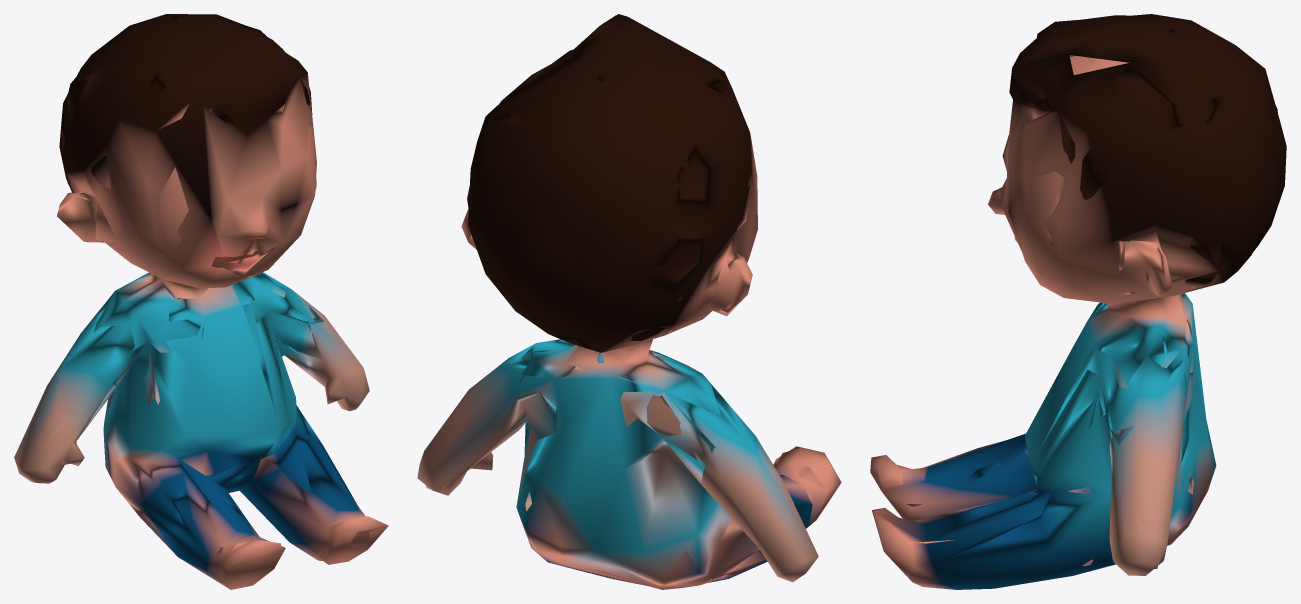
File: gen3d-baby-lod1.glb
3 views of the same model, side by side, from view 1: azimuth 30°, elevation 25°; view 2: azimuth 150°, elevation 25°; view 3: azimuth 270°, elevation 25° (orthographic). The views are drawn at different scales.
Parts seen in each view (by area): view 1: part_0; view 2: part_0; view 3: part_0.
Part boxes in pixels (x1,y1,x2,y2): part_0: [14, 14, 388, 589]; part_0: [417, 14, 841, 589]; part_0: [870, 14, 1286, 589].
Bounding box in the file's own units: 0.7532 × 1 × 0.7028.
